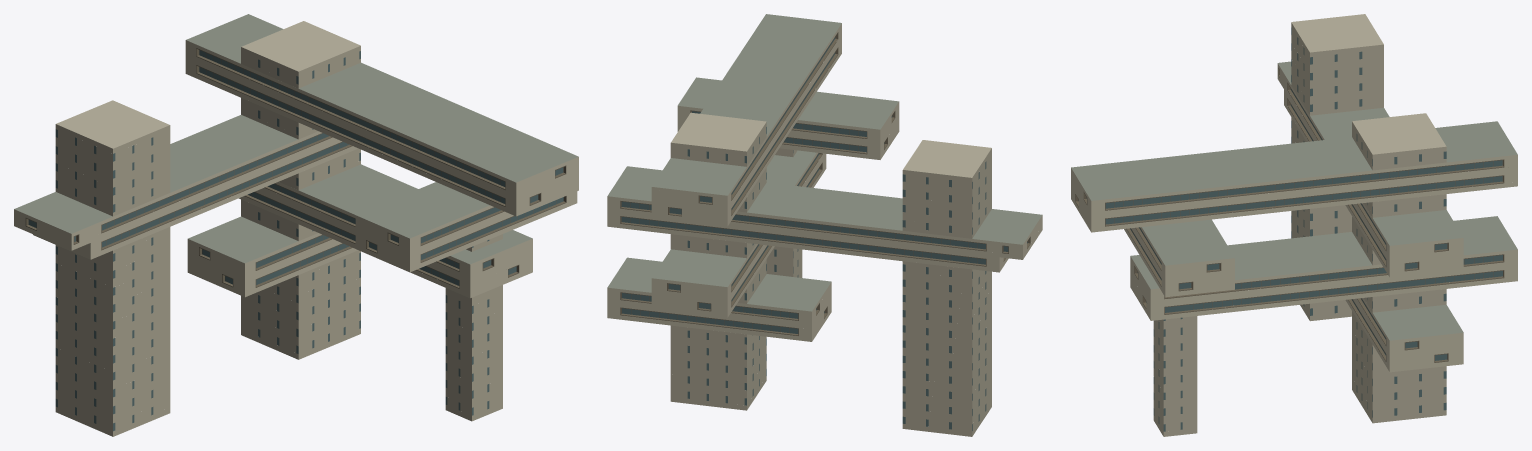
The model's file is bank-of-georgia-hq-near.glb.
3 views of the same model, side by side, from view 1: azimuth 30°, elevation 25°; view 2: azimuth 150°, elevation 25°; view 3: azimuth 270°, elevation 25° (orthographic). The views are drawn at different scales.
Visible parts, largest first — view 1: bank-of-georgia-hq-0-core, bank-of-georgia-hq-0-roof, bank-of-georgia-hq-0-concrete, bank-of-georgia-hq-0-glass, bank-of-georgia-hq-0-reveal; view 2: bank-of-georgia-hq-0-core, bank-of-georgia-hq-0-roof, bank-of-georgia-hq-0-concrete, bank-of-georgia-hq-0-glass, bank-of-georgia-hq-0-reveal; view 3: bank-of-georgia-hq-0-core, bank-of-georgia-hq-0-roof, bank-of-georgia-hq-0-concrete, bank-of-georgia-hq-0-glass, bank-of-georgia-hq-0-reveal.
Boxes of the visible parts, box(x1,y1,x2,y2) form: bank-of-georgia-hq-0-core: box(55, 21, 502, 436); bank-of-georgia-hq-0-roof: box(14, 14, 578, 264); bank-of-georgia-hq-0-concrete: box(14, 40, 578, 298); bank-of-georgia-hq-0-glass: box(28, 50, 563, 431); bank-of-georgia-hq-0-reveal: box(25, 48, 566, 288); bank-of-georgia-hq-0-core: box(670, 112, 991, 436); bank-of-georgia-hq-0-roof: box(607, 14, 1042, 311); bank-of-georgia-hq-0-concrete: box(607, 23, 1042, 341); bank-of-georgia-hq-0-glass: box(621, 37, 1027, 430); bank-of-georgia-hq-0-reveal: box(620, 32, 1030, 335); bank-of-georgia-hq-0-core: box(1153, 14, 1446, 436); bank-of-georgia-hq-0-roof: box(1071, 61, 1517, 340); bank-of-georgia-hq-0-concrete: box(1071, 63, 1517, 372); bank-of-georgia-hq-0-glass: box(1078, 27, 1502, 431); bank-of-georgia-hq-0-reveal: box(1075, 68, 1504, 362).
Size of the model in its own units: 85.83 by 51 by 76.9.
